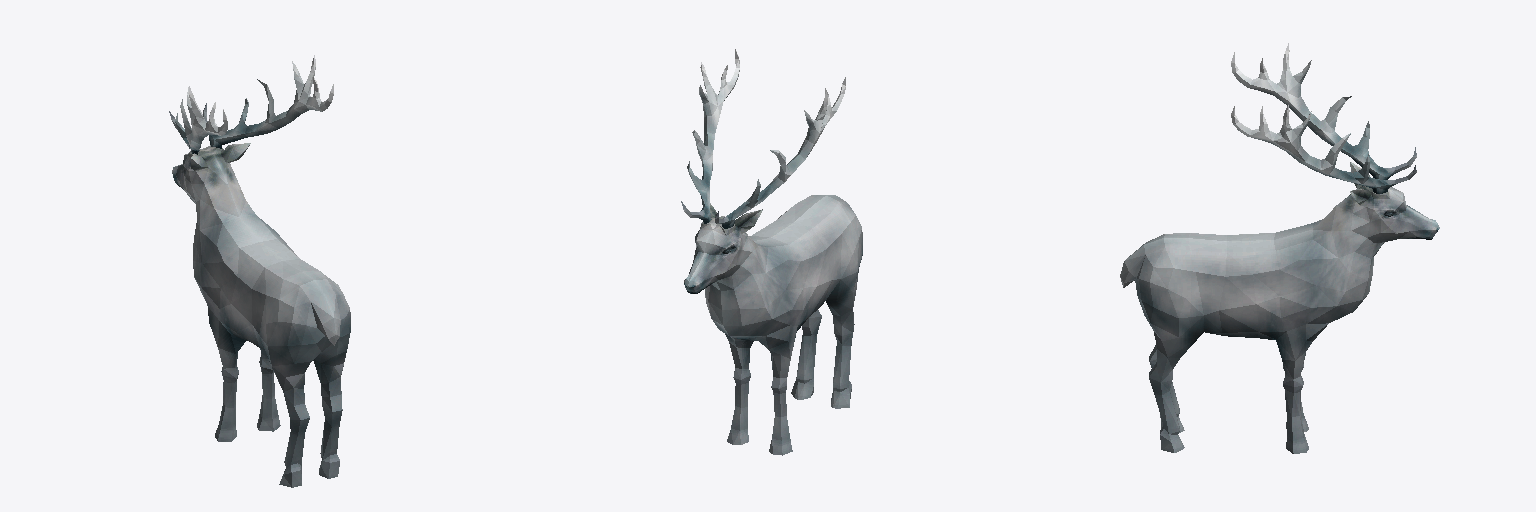
3 renders of one model, left to right at view 1: azimuth 30°, elevation 25°; view 2: azimuth 150°, elevation 25°; view 3: azimuth 270°, elevation 25°, orthographic.
Visible parts, largest first — view 1: material_0; view 2: material_0; view 3: material_0.
Part boxes in pixels (x1,y1,x2,y2): material_0: (169, 55, 350, 487); material_0: (681, 49, 862, 455); material_0: (1120, 43, 1439, 453).
Bounding box in the file's own units: 75 × 205 × 162.
Materials: 1 (1 with a texture image).